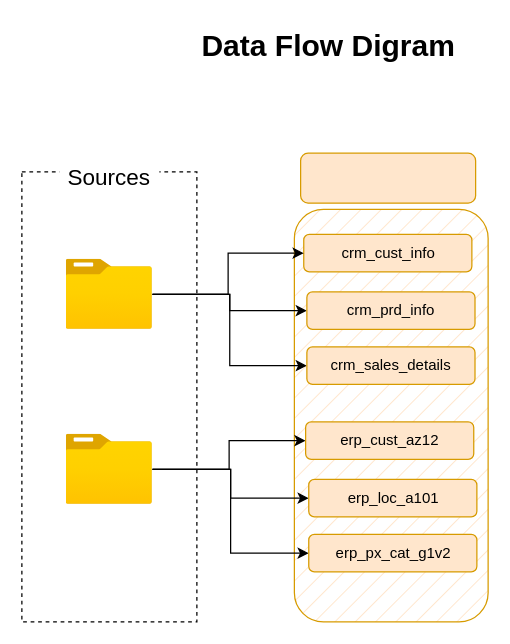
The diagram is 510 pixels wide and 644 high, and some of its shapes have lost their labels. Here are the shapes that lost their labels. From the top down, the centre of each, then its label:
pixel 387 177: Bronze Layer
pixel 109 294: CRM
pixel 109 469: ERP
